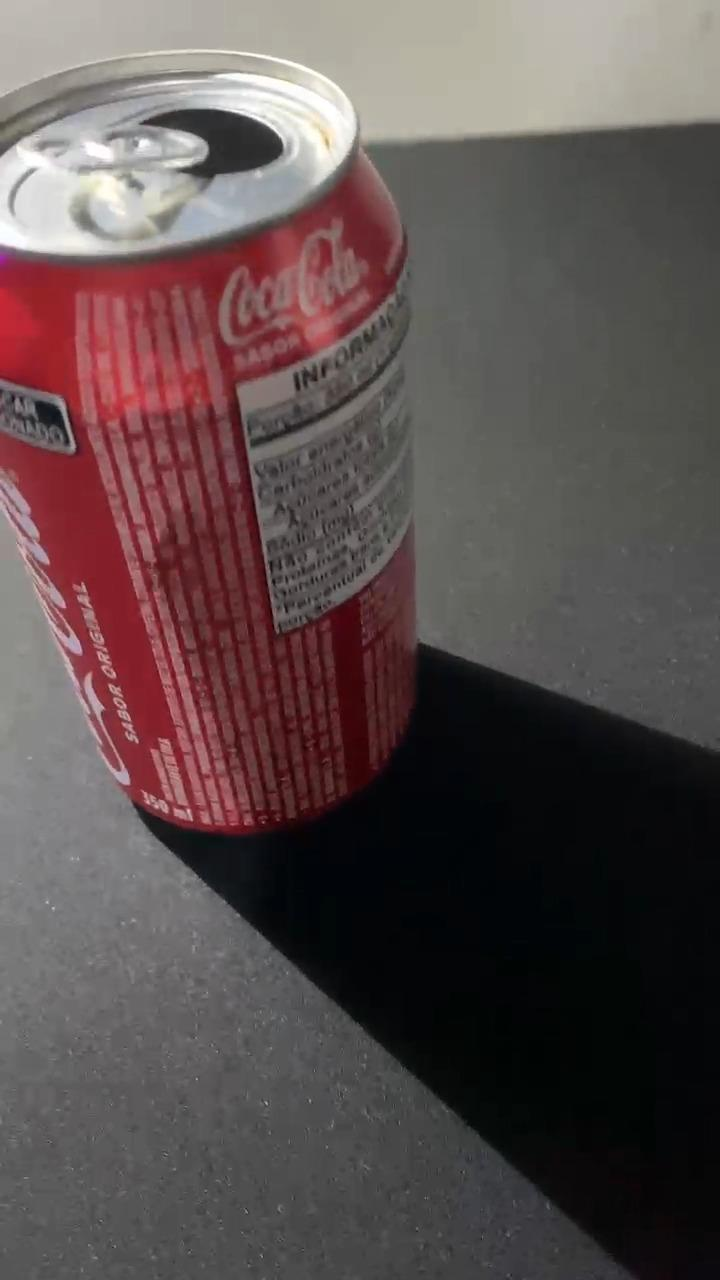coke: (2, 45, 432, 835)
